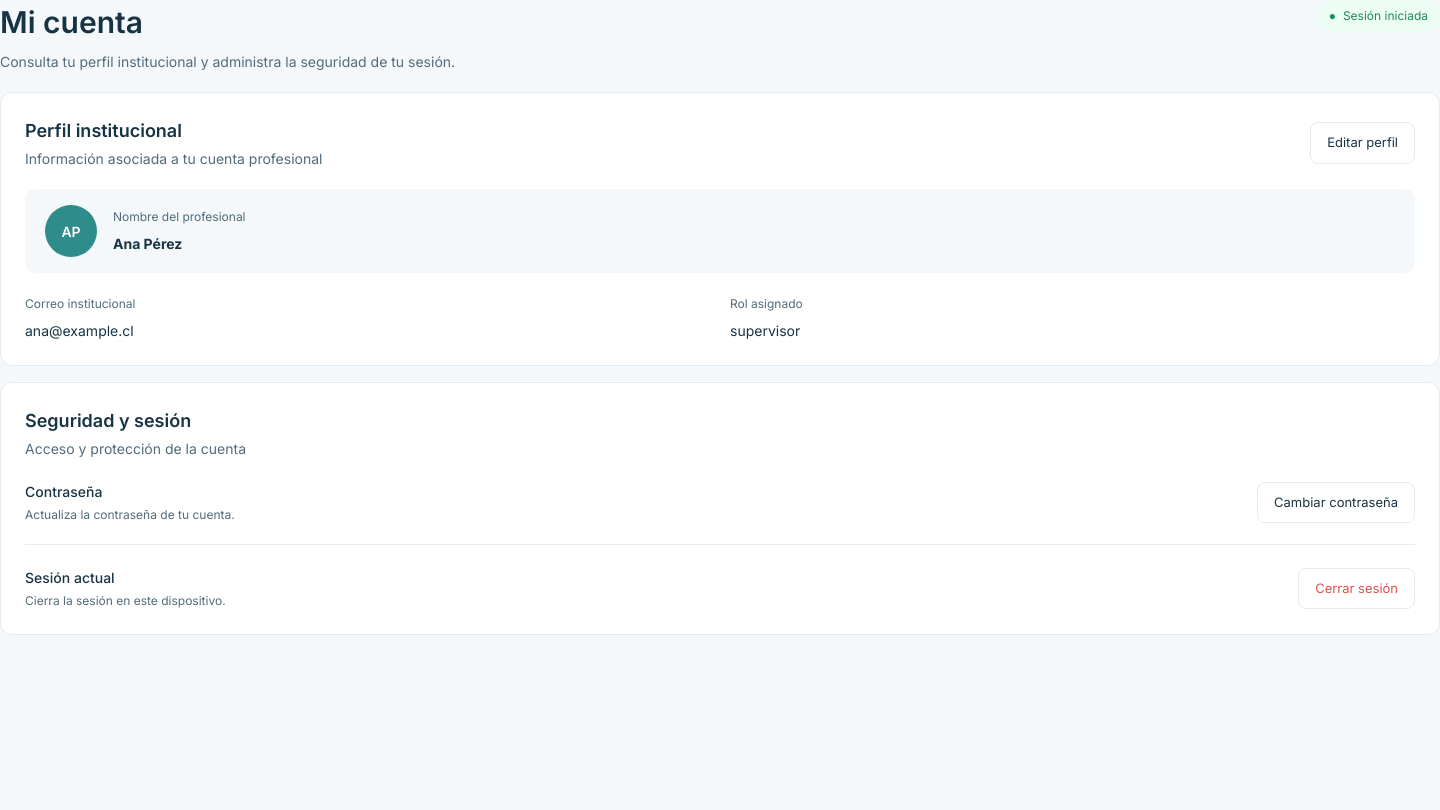
Test: Mi cuenta › muestra los datos y permite editar el perfil
Expected: the heading "Mi cuenta" is shown, [0,4,143,40]
Expected: the text "ana@example.cl" is shown, [25,322,134,339]
Click the button "Editar perfil".
click(1363, 143)  # box [1310,122,1415,164]
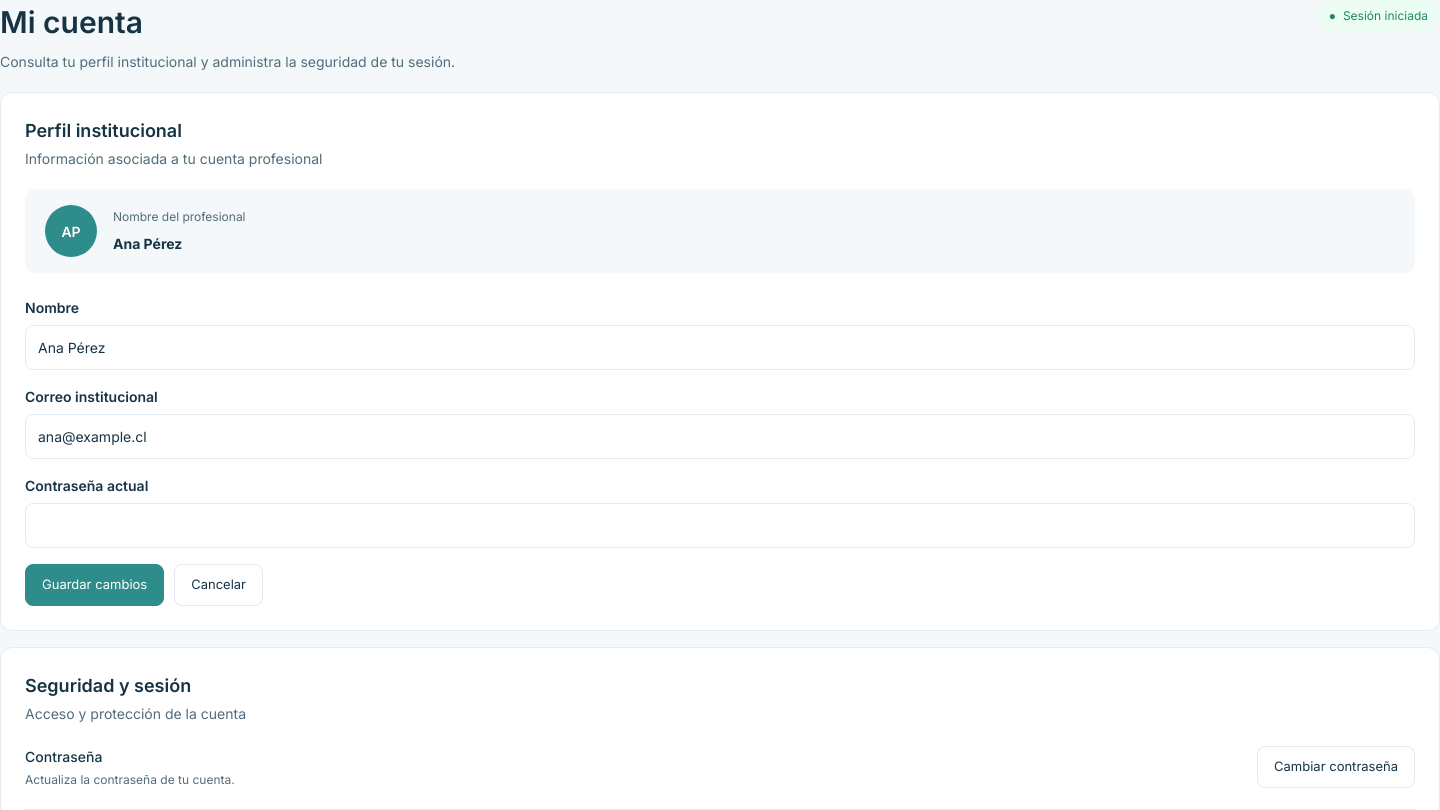
Type "anterior" into the password field labelled "Contraseña actual".
click(720, 526); type("anterior")  # box [25,503,1415,548]
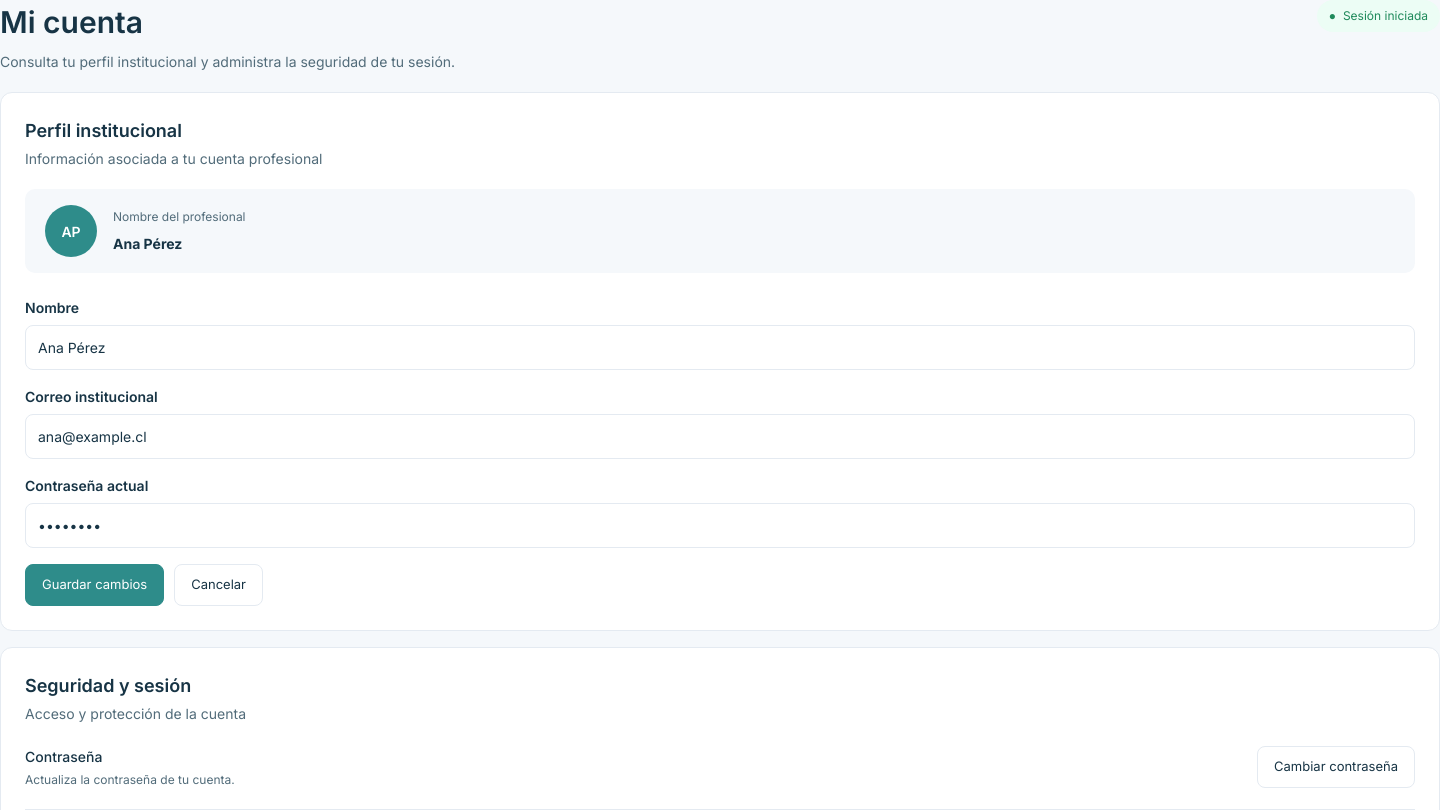
Click the button "Guardar cambios".
click(95, 585)  # box [25,564,164,606]
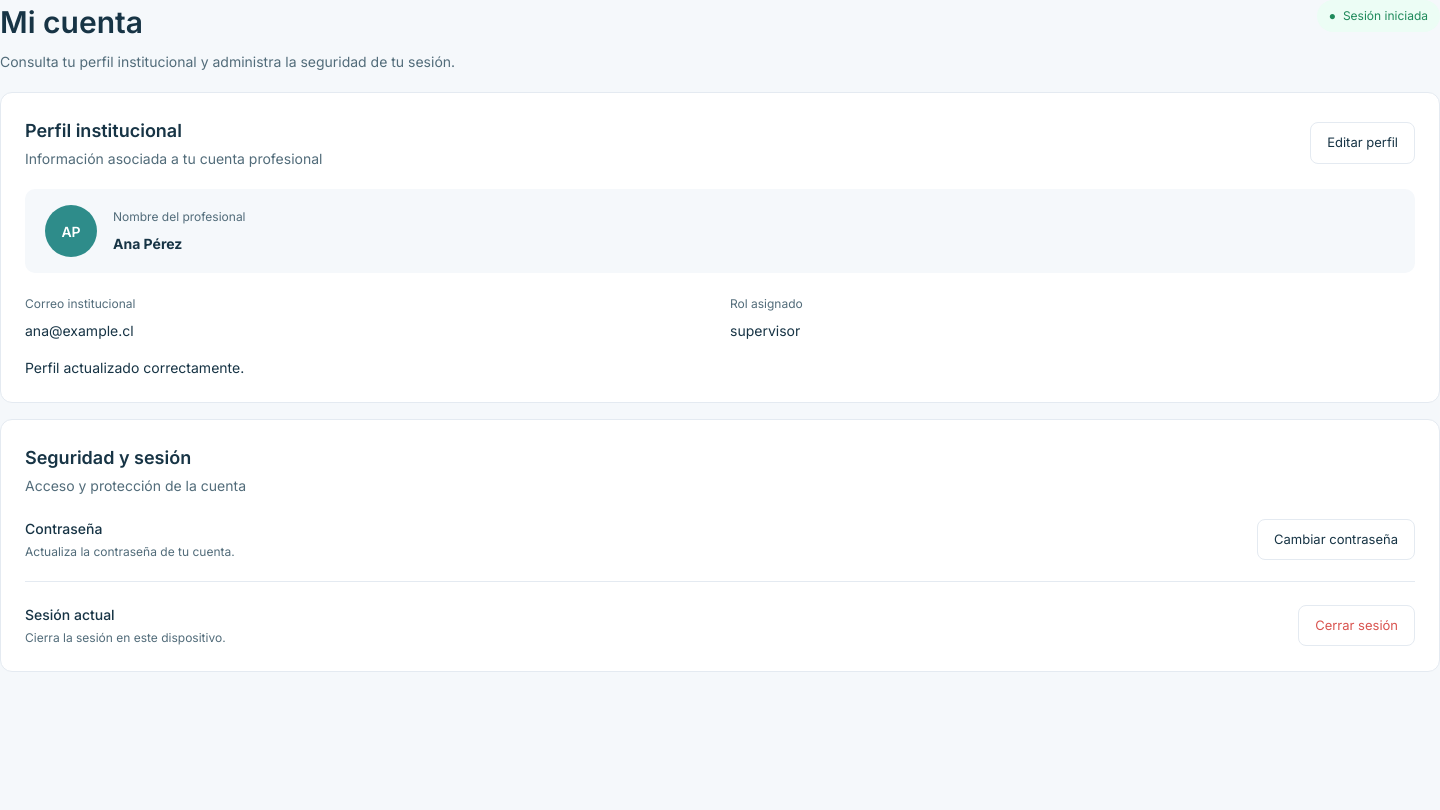
Result: the text "Perfil actualizado correctamente." is shown at [25,359,244,376]
